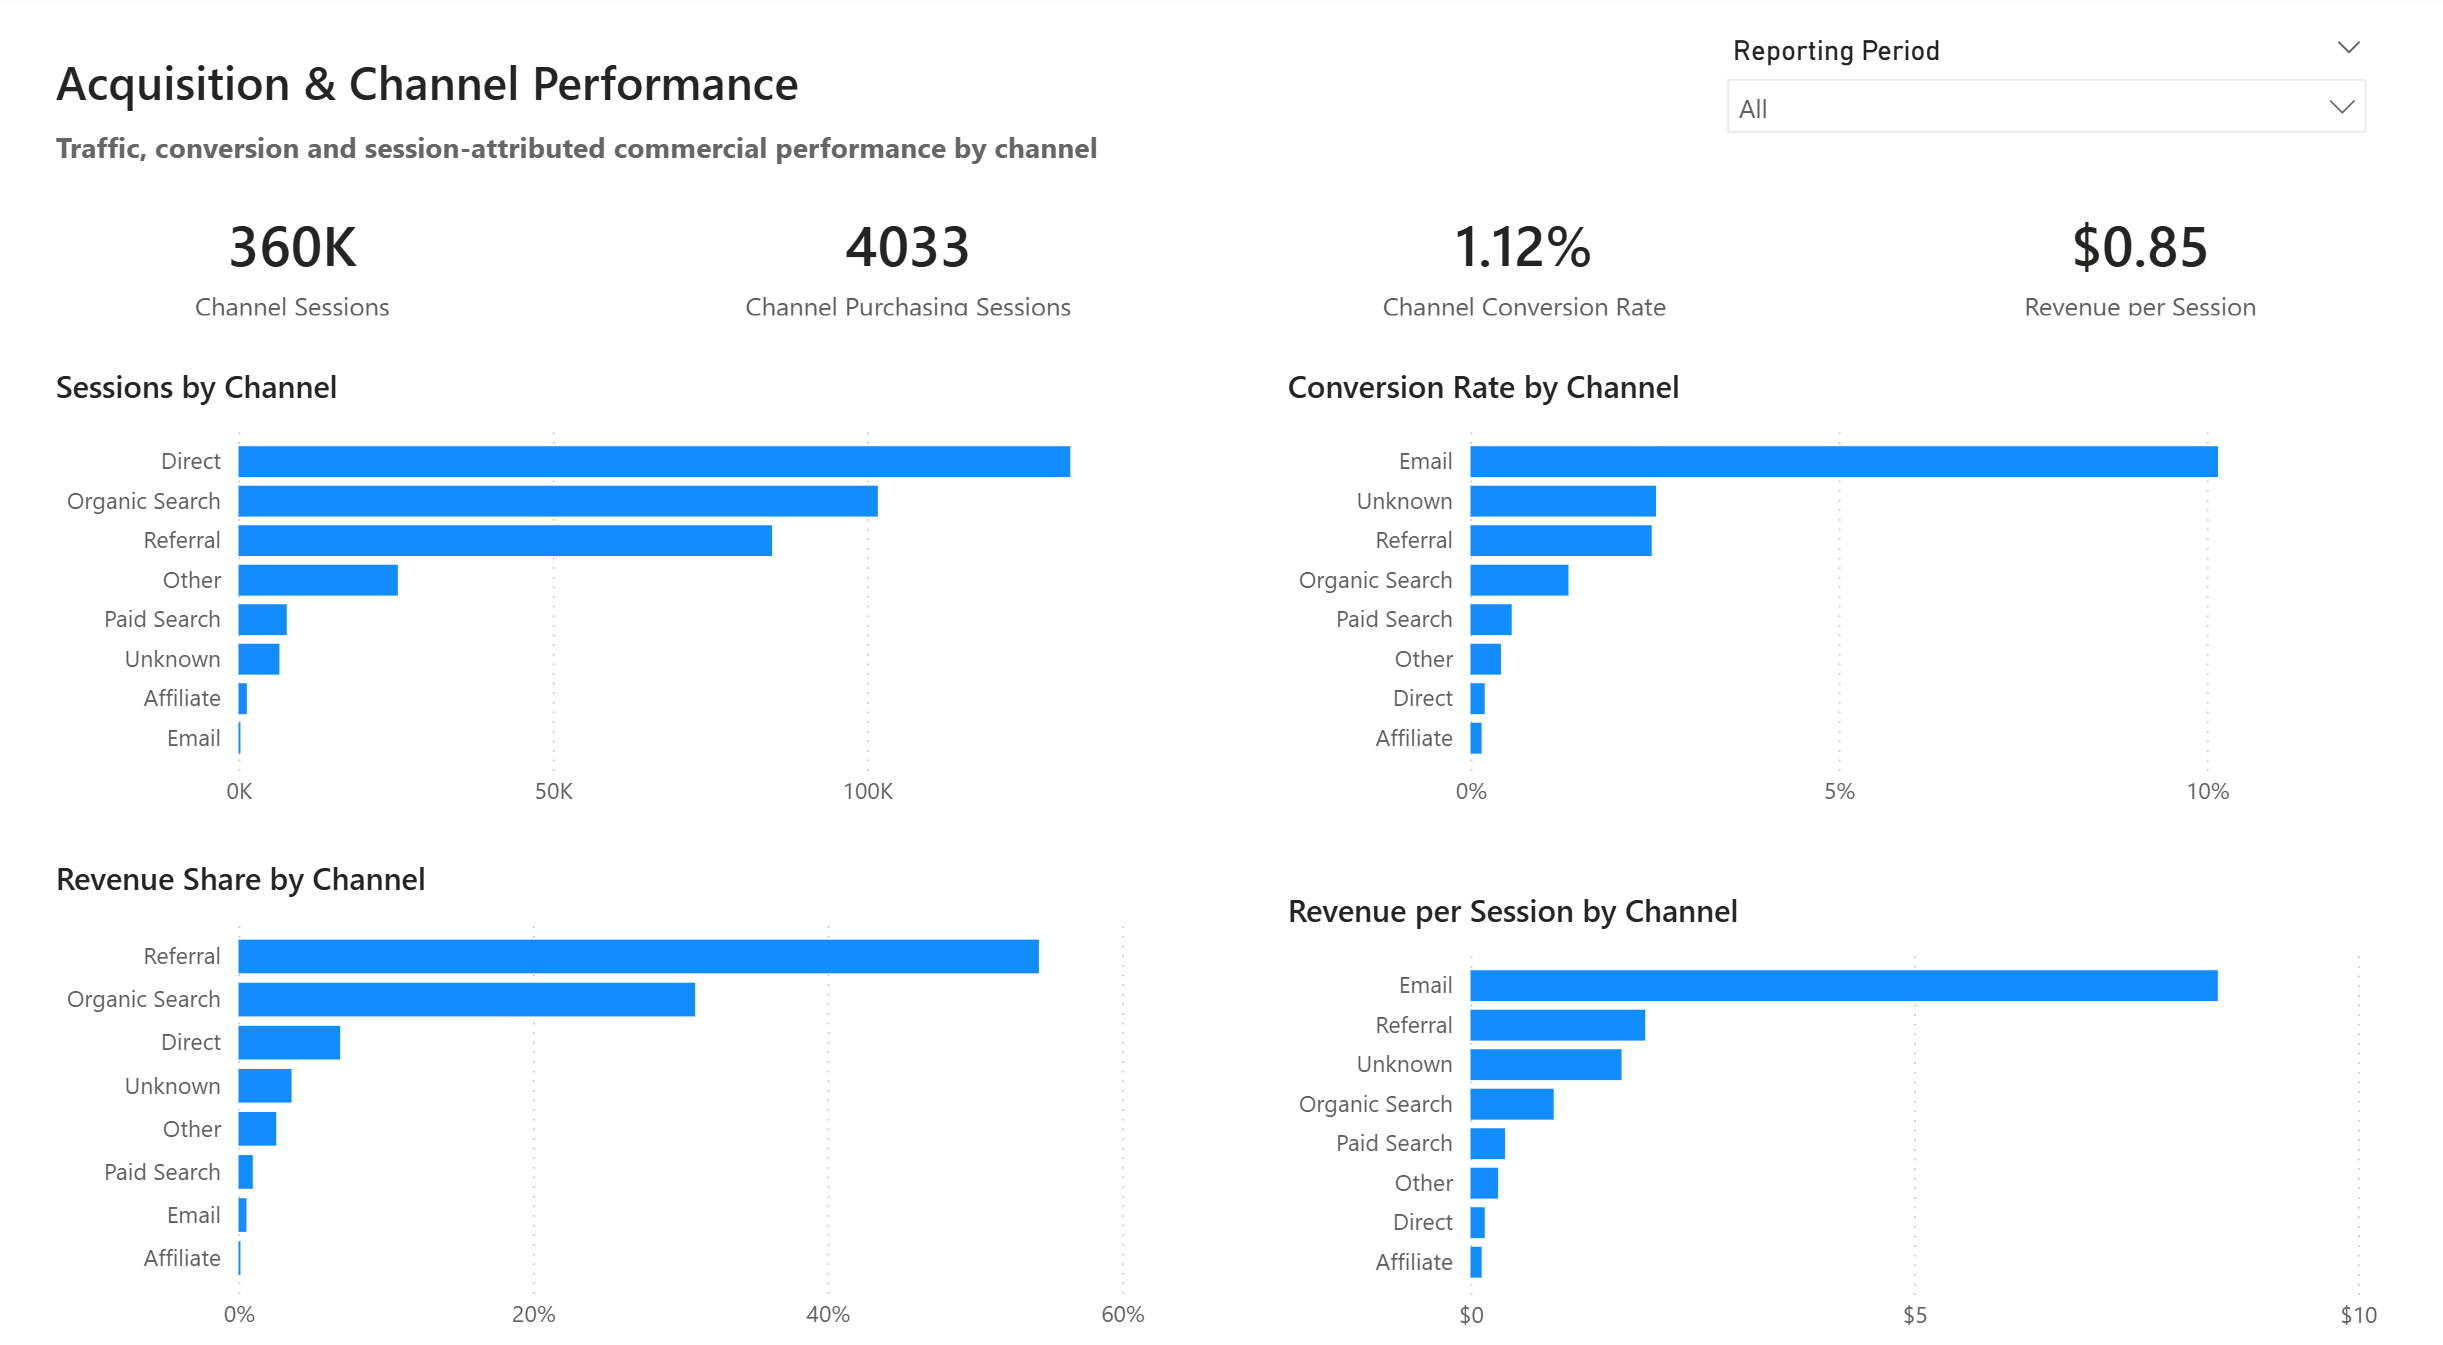

This screenshot's page, from the dashboard's own definition file:
{"tool":"powerbi","page":{"name":"Acquisition & Channel Performance","canvas":[1280,720],"ordinal":1},"visuals":[{"type":"textbox","box":[32,24,450,51],"z":0},{"type":"textbox","box":[32,64,576,48],"z":1000},{"type":"card","fields":{"Values":["Measures (2).Channel Sessions"]},"box":[32,123,260,80],"z":2000},{"type":"card","fields":{"Values":["Measures (2).Channel Conversion Rate"]},"box":[672,123,260,80],"z":3000},{"type":"card","fields":{"Values":["Measures (2).Channel Purchasing Sessions"]},"box":[352,123,260,80],"z":4000},{"type":"card","fields":{"Values":["Measures (2).Channel Session Contribution"]},"box":[992,123,260,80],"z":5000},{"type":"clusteredBarChart","title":"Sessions by Channel","fields":{"Category":["dim_channel.channel_group"],"Y":["Measures (2).Channel Sessions"]},"box":[32,240,576,208],"z":6000},{"type":"clusteredBarChart","title":"Conversion Rate by Channel","fields":{"Category":["dim_channel.channel_group"],"Y":["Measures (2).Channel Conversion Rate"]},"box":[672,240,576,208],"z":7000},{"type":"clusteredBarChart","title":"Revenue Contribution by Channel","fields":{"Category":["dim_channel.channel_group"],"Y":["Measures (2).Channel Revenue Contribution"]},"box":[32,480,576,208],"z":8000},{"type":"clusteredBarChart","title":"Revenue per Session by Channel","fields":{"Category":["dim_channel.channel_group"],"Y":["Measures (2).Channel Revenue per Session"]},"box":[672,480,576,208],"z":9000},{"type":"slicer","fields":{"Values":["dim_date.year_month"]},"box":[896,16,352,80],"z":10000}]}

Visuals, with their boxes in screenshot pixels (x1, y1, x2, y2), scaled from the page's 1280x720 canvas onto the 2443x1345 screenshot:
textbox: 61/45/920/140
textbox: 61/120/1160/209
card - Measures (2).Channel Sessions: 61/230/557/379
card - Measures (2).Channel Conversion Rate: 1283/230/1779/379
card - Measures (2).Channel Purchasing Sessions: 672/230/1168/379
card - Measures (2).Channel Session Contribution: 1893/230/2390/379
"Sessions by Channel" clusteredBarChart: 61/448/1160/837
"Conversion Rate by Channel" clusteredBarChart: 1283/448/2382/837
"Revenue Contribution by Channel" clusteredBarChart: 61/897/1160/1285
"Revenue per Session by Channel" clusteredBarChart: 1283/897/2382/1285
slicer - dim_date.year_month: 1710/30/2382/179
